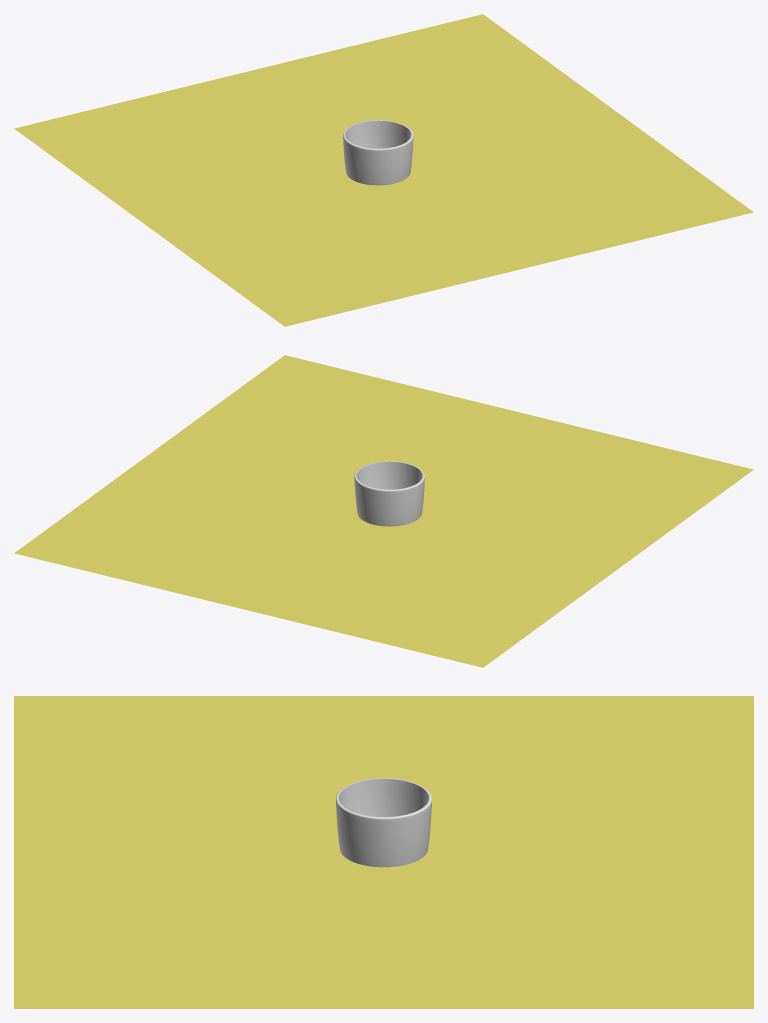
The model's file is mug.fbx_Mug.fbx.
3 renders of one model, top to bottom at view 1: azimuth 30°, elevation 25°; view 2: azimuth 150°, elevation 25°; view 3: azimuth 270°, elevation 25°, orthographic. The views are drawn at different scales.
Visible parts, largest first — view 1: Plane.001, Cylinder; view 2: Plane.001, Cylinder; view 3: Plane.001, Cylinder.
Part boxes in pixels (x1,y1,x2,y2): Plane.001: (14,14,753,326); Cylinder: (343,120,413,185); Plane.001: (14,355,753,667); Cylinder: (354,461,424,526); Plane.001: (14,696,753,1008); Cylinder: (336,778,431,867).
Bounding box in the file's own units: 1800 × 295 × 1800.
